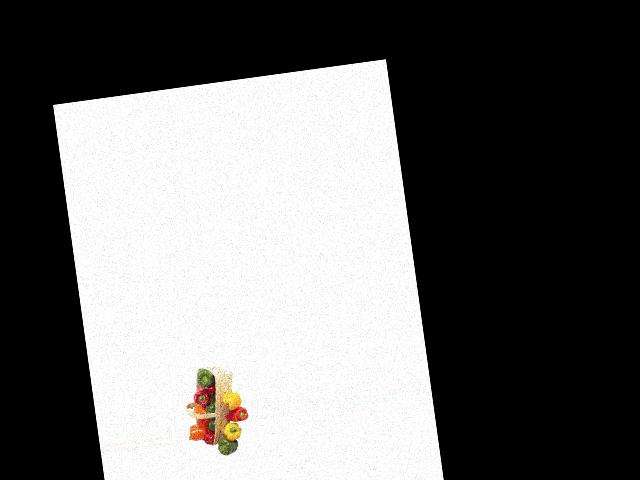bell_pepper: (195, 367, 214, 390)
